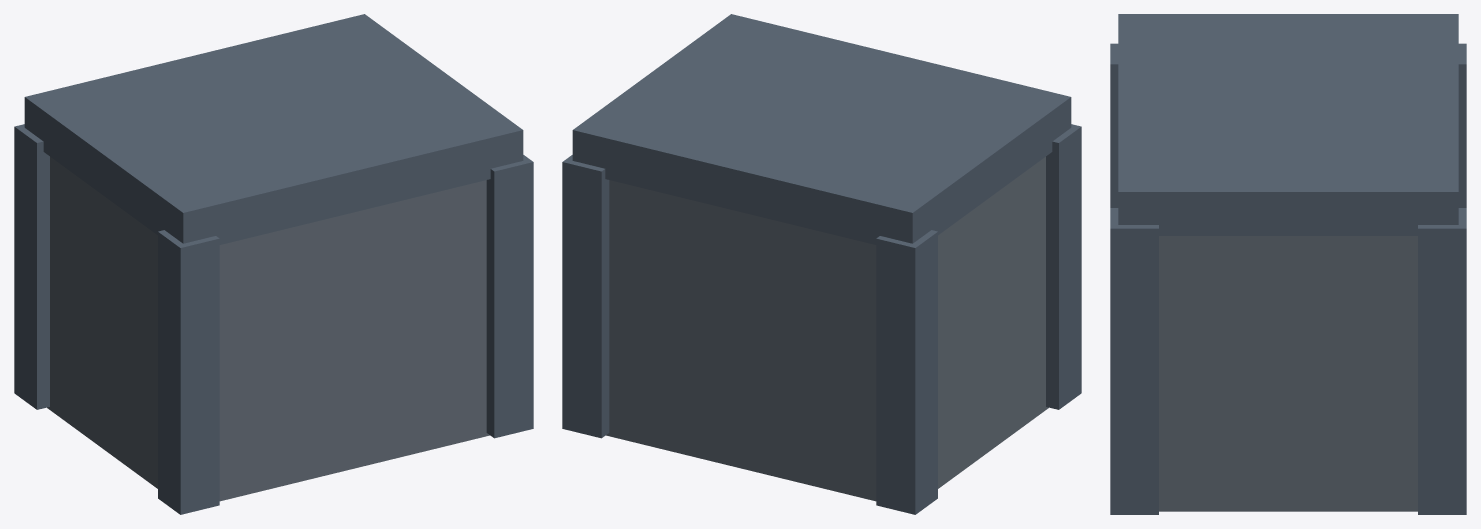
The model's file is Lab_Industrial_Crate.fbx.
3 views of the same model, side by side, from view 1: azimuth 30°, elevation 25°; view 2: azimuth 150°, elevation 25°; view 3: azimuth 270°, elevation 25° (orthographic). The views are drawn at different scales.
Visible parts, largest first — view 1: Lab_Industrial_Crate; view 2: Lab_Industrial_Crate; view 3: Lab_Industrial_Crate.
Part boxes in pixels (x1=…): Lab_Industrial_Crate: x1=14, y1=14, x2=533, y2=514; Lab_Industrial_Crate: x1=562, y1=14, x2=1081, y2=514; Lab_Industrial_Crate: x1=1110, y1=14, x2=1466, y2=514.
Bounding box in the file's own units: 1.08 × 0.88 × 0.88.
